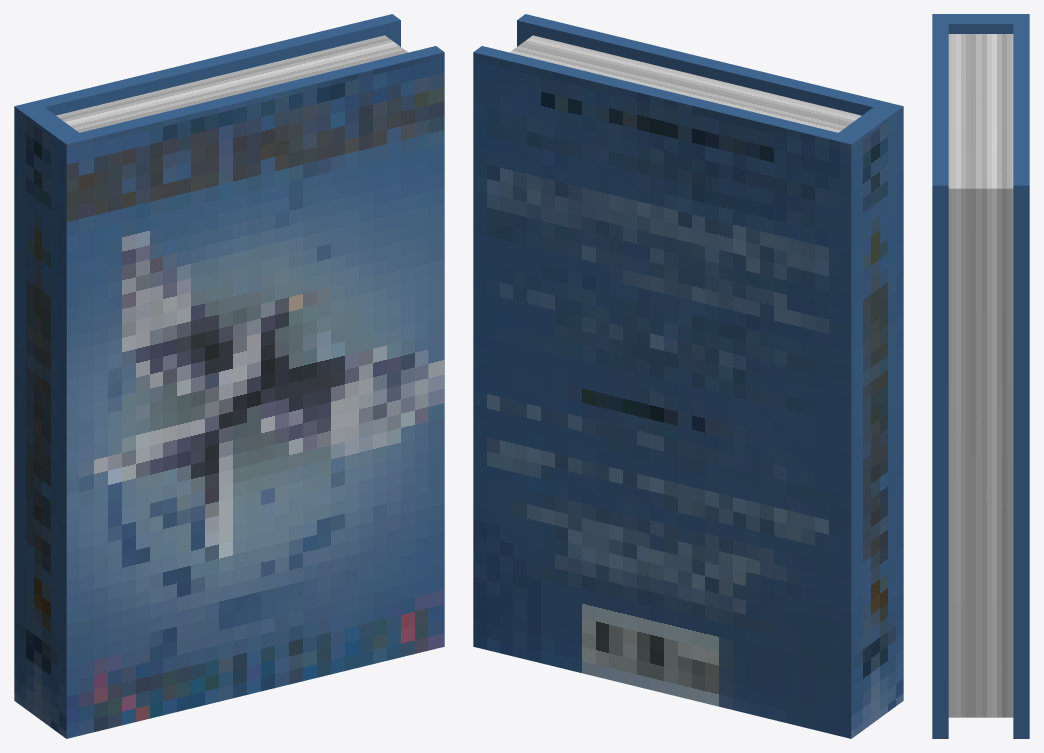
File: book_blue_01.fbx
3 renders of one model, left to right at view 1: azimuth 30°, elevation 25°; view 2: azimuth 150°, elevation 25°; view 3: azimuth 270°, elevation 25°, orthographic. The views are drawn at different scales.
Visible parts, largest first — view 1: Book_Blue_1; view 2: Book_Blue_1; view 3: Book_Blue_1.
Part boxes in pixels (left/top/right/bottom): Book_Blue_1: left=14, top=14, right=444, bottom=738; Book_Blue_1: left=473, top=14, right=903, bottom=738; Book_Blue_1: left=932, top=14, right=1029, bottom=738.
Bounding box in the file's own units: 15.92 × 23.91 × 3.81.
1 material, 1 textured.
